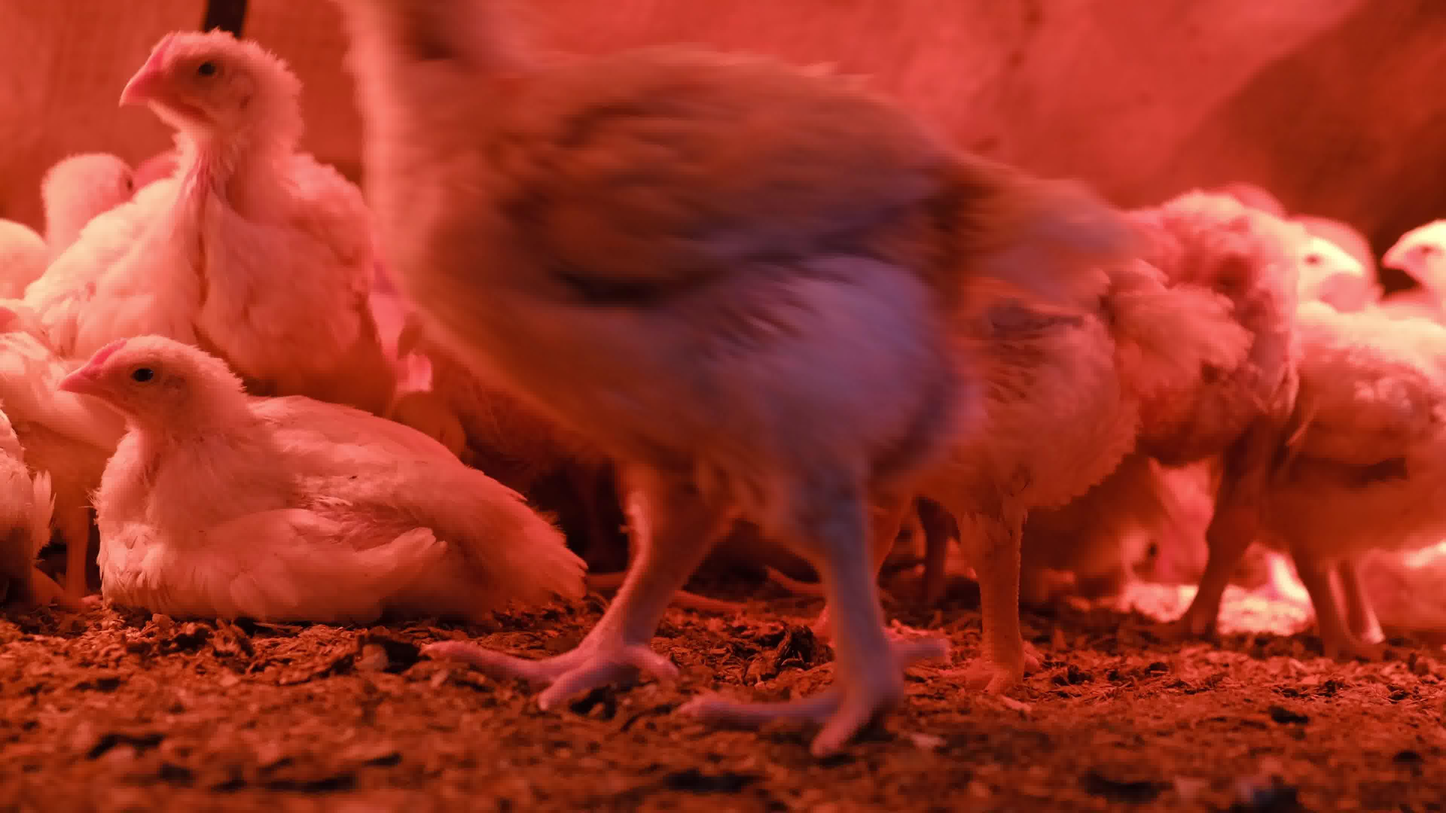AbNormal: (57, 335, 585, 619), (0, 382, 66, 604)
Normal: (336, 0, 1161, 765), (899, 271, 1251, 699), (42, 30, 429, 390), (1090, 184, 1309, 640), (1280, 301, 1444, 659), (0, 215, 102, 608), (44, 147, 149, 265), (1271, 219, 1362, 319), (1388, 215, 1446, 315)
